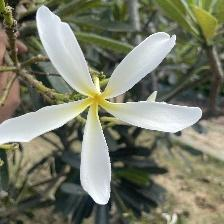champaka: (1, 6, 207, 211)
